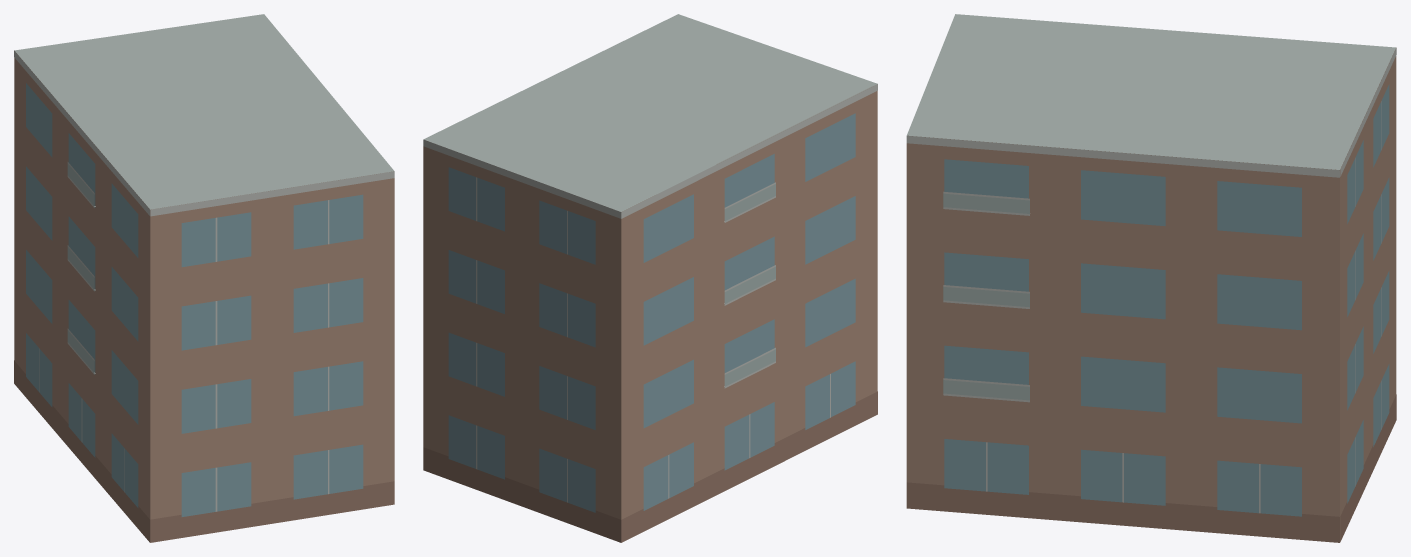
Rendered from survey-upis-33041321.glb.
3 views of the same model, side by side, from view 1: azimuth 30°, elevation 25°; view 2: azimuth 150°, elevation 25°; view 3: azimuth 270°, elevation 25° (orthographic). The views are drawn at different scales.
Parts seen in each view (by area): view 1: survey-upis-33041321.tmp; view 2: survey-upis-33041321.tmp; view 3: survey-upis-33041321.tmp.
Boxes of the visible parts, x1,y1,x2,y2 form: survey-upis-33041321.tmp: [14, 14, 394, 542]; survey-upis-33041321.tmp: [423, 14, 877, 542]; survey-upis-33041321.tmp: [906, 14, 1396, 542].
Bounding box in the file's own units: 10.65 × 11.85 × 14.12.
